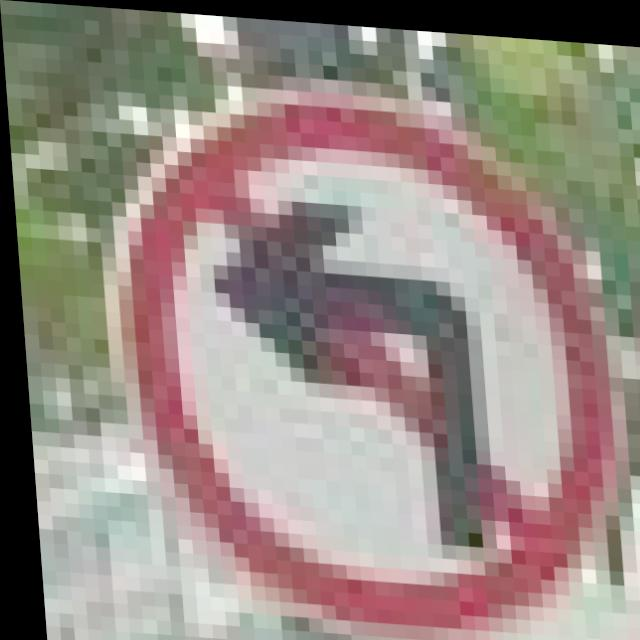LEFT_TURN_PROHIBITED: (95, 67, 619, 636)
